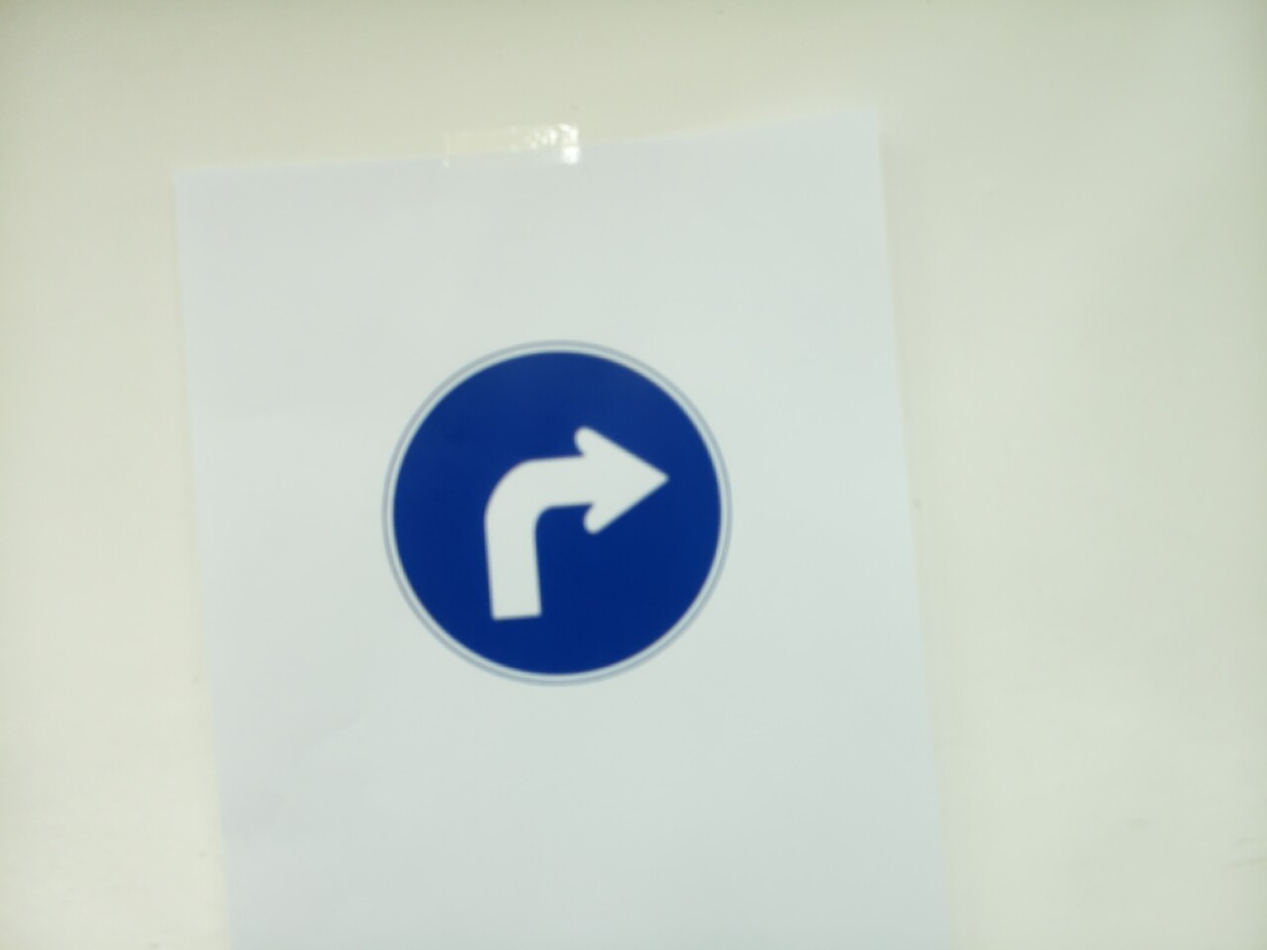right_turn: (383, 341, 731, 685)
